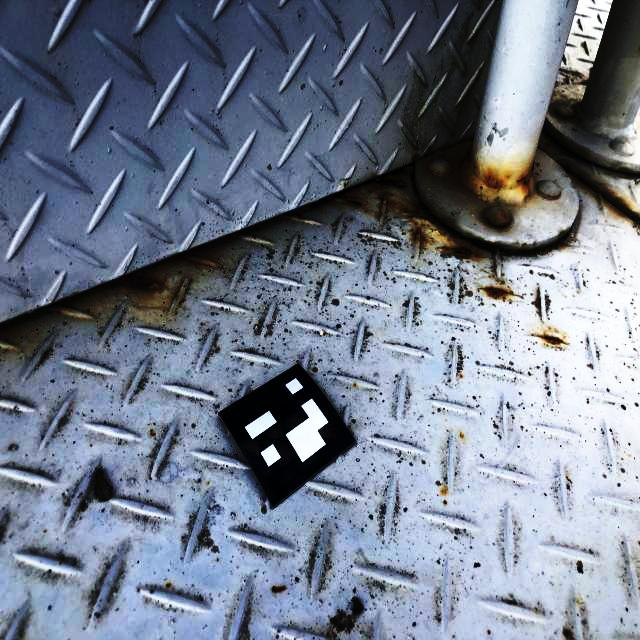Corrosion: (380, 194, 431, 223), (113, 269, 163, 292), (367, 175, 407, 189), (443, 245, 477, 259), (516, 162, 535, 185), (176, 252, 210, 264), (457, 145, 472, 171), (340, 194, 364, 208), (484, 286, 507, 298), (385, 165, 409, 176), (541, 335, 562, 346)
